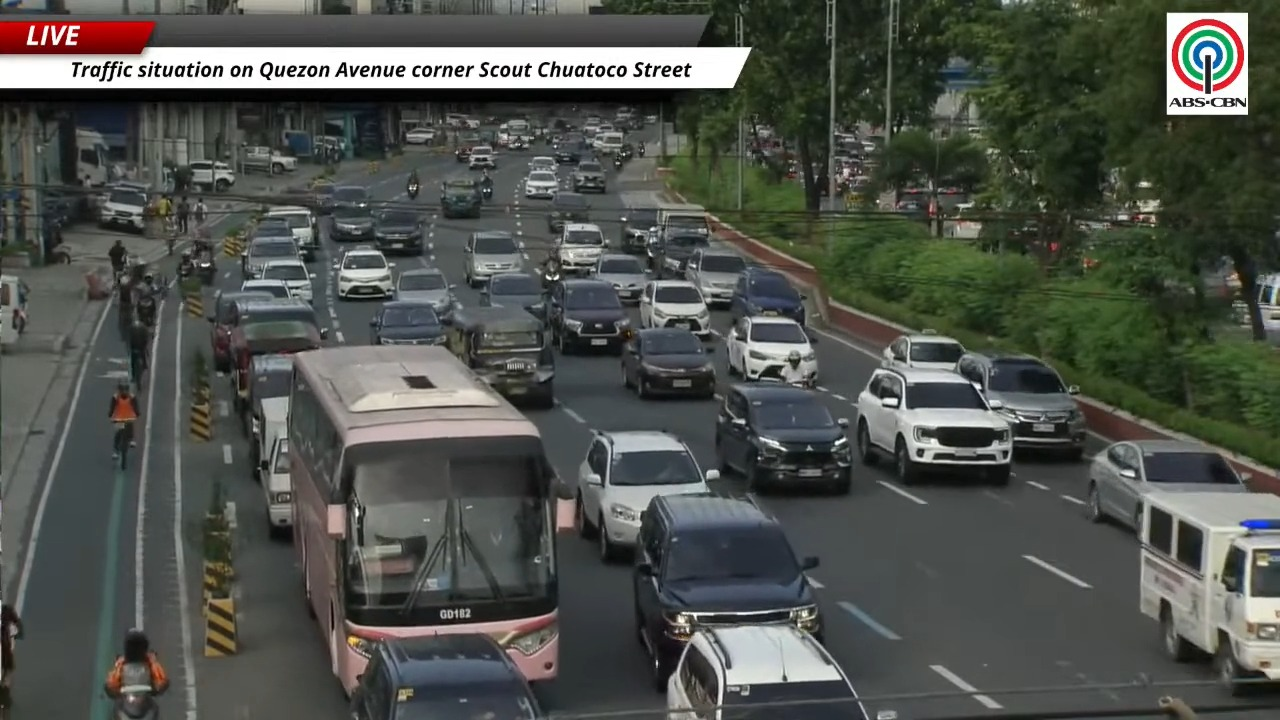bus: (288, 347, 567, 693), (507, 119, 531, 140)
car: (633, 494, 820, 691), (666, 624, 869, 719), (573, 430, 718, 561), (855, 368, 1012, 484), (350, 633, 543, 719), (715, 383, 852, 494), (1086, 439, 1249, 531), (955, 351, 1086, 460), (621, 328, 715, 397), (547, 278, 630, 353), (724, 316, 818, 382), (208, 290, 272, 372), (730, 266, 805, 324), (639, 280, 711, 337), (236, 297, 328, 338), (684, 248, 746, 305), (881, 329, 964, 370), (370, 300, 446, 344), (464, 231, 524, 286), (395, 267, 456, 319), (264, 206, 319, 260), (337, 246, 393, 299), (480, 272, 544, 316), (552, 222, 606, 274), (589, 254, 648, 301), (241, 234, 300, 278), (374, 208, 427, 255), (658, 229, 709, 277), (258, 258, 313, 301), (99, 187, 147, 232), (619, 208, 657, 253), (547, 192, 589, 232), (440, 179, 483, 218), (329, 206, 372, 241), (189, 159, 235, 191), (250, 216, 296, 244), (573, 160, 606, 192), (524, 169, 559, 198), (240, 279, 292, 298), (553, 135, 584, 164), (333, 185, 370, 207), (310, 182, 335, 214), (468, 145, 496, 169), (404, 127, 437, 145), (528, 156, 558, 173), (455, 144, 471, 162)
motorcycle: (114, 685, 157, 719), (135, 292, 156, 328), (761, 376, 815, 388), (194, 254, 215, 284), (540, 260, 561, 287), (178, 261, 195, 278), (508, 138, 527, 150), (406, 183, 419, 199), (481, 185, 493, 202), (613, 155, 624, 169), (637, 143, 644, 157)
truck: (1139, 492, 1279, 695), (255, 398, 292, 537), (75, 127, 110, 186), (657, 203, 711, 236), (241, 146, 297, 174)
